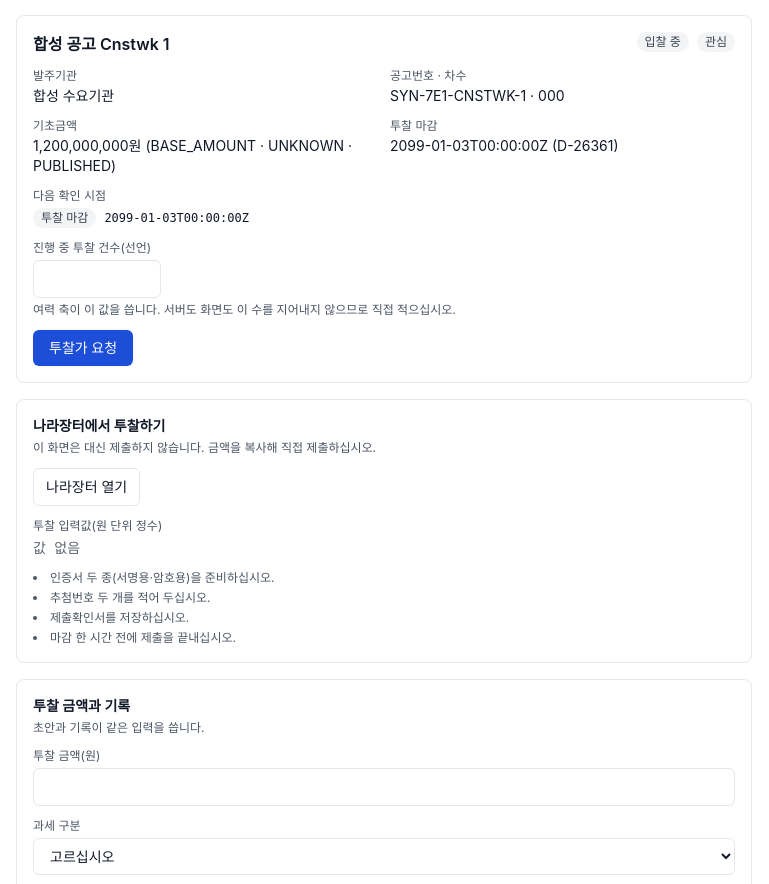
Test case: 화면 C — 투찰가 요청의 세 가격 축(G2 13) › 하한 미달 빈도와 신뢰도도 상태와 사유로만 보인다
Type "2" into the field with test id "active-bids".
click(97, 279); type("2")  # box [33,260,161,298]
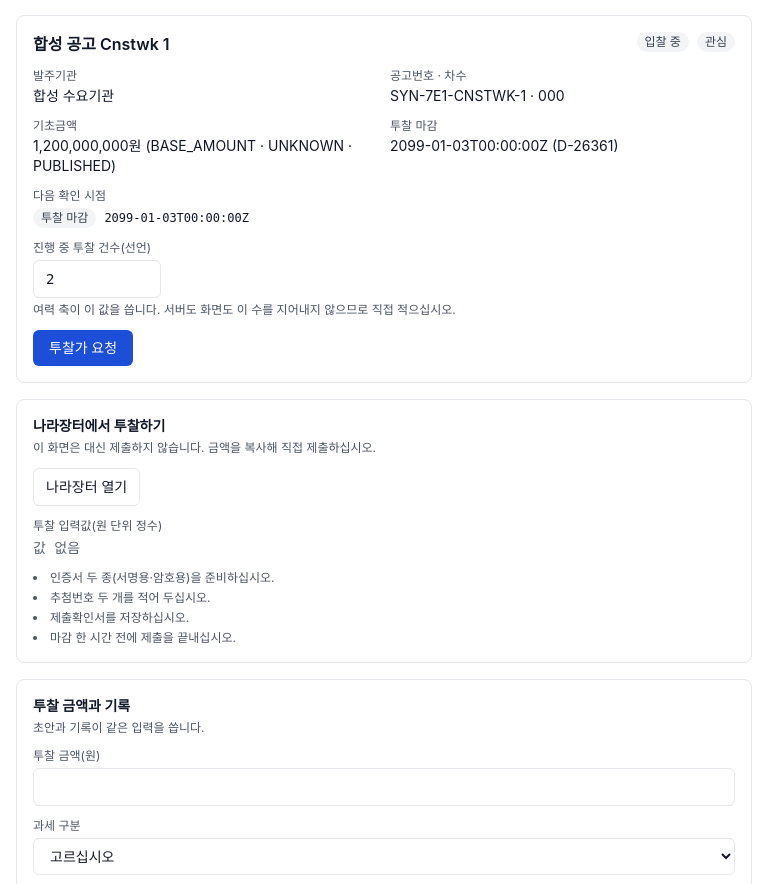
Click the button with test id "worksheet-primary".
click(83, 348)  # box [33,330,133,366]
(page scrolled)
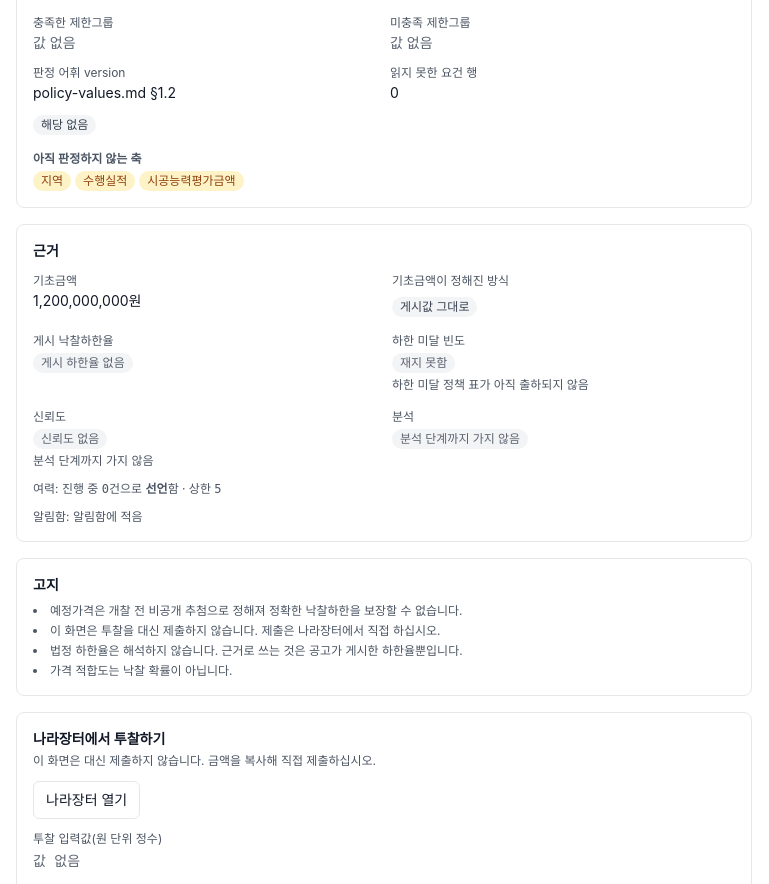
Check: the element with test id "floor-shortfall" shows "재지 못함", box [400,355,447,370]
Check: the element with test id "confidence" shows "신뢰도 없음", box [41,431,99,446]
